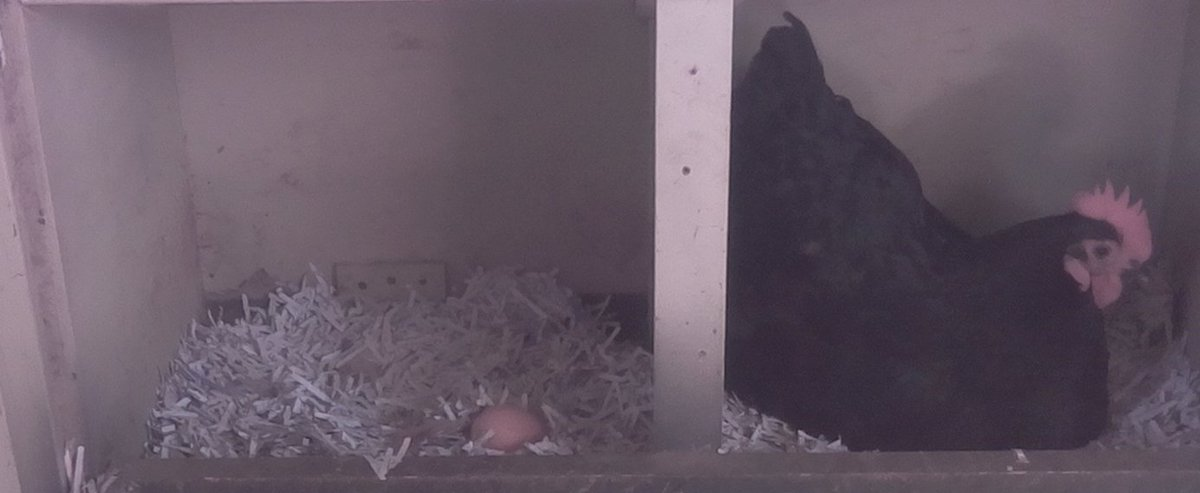egg: (459, 401, 560, 451)
hen: (736, 36, 1161, 446)
